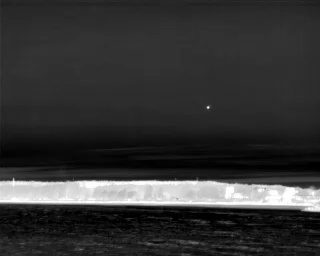HELICOPTER: (204, 103, 213, 113)
